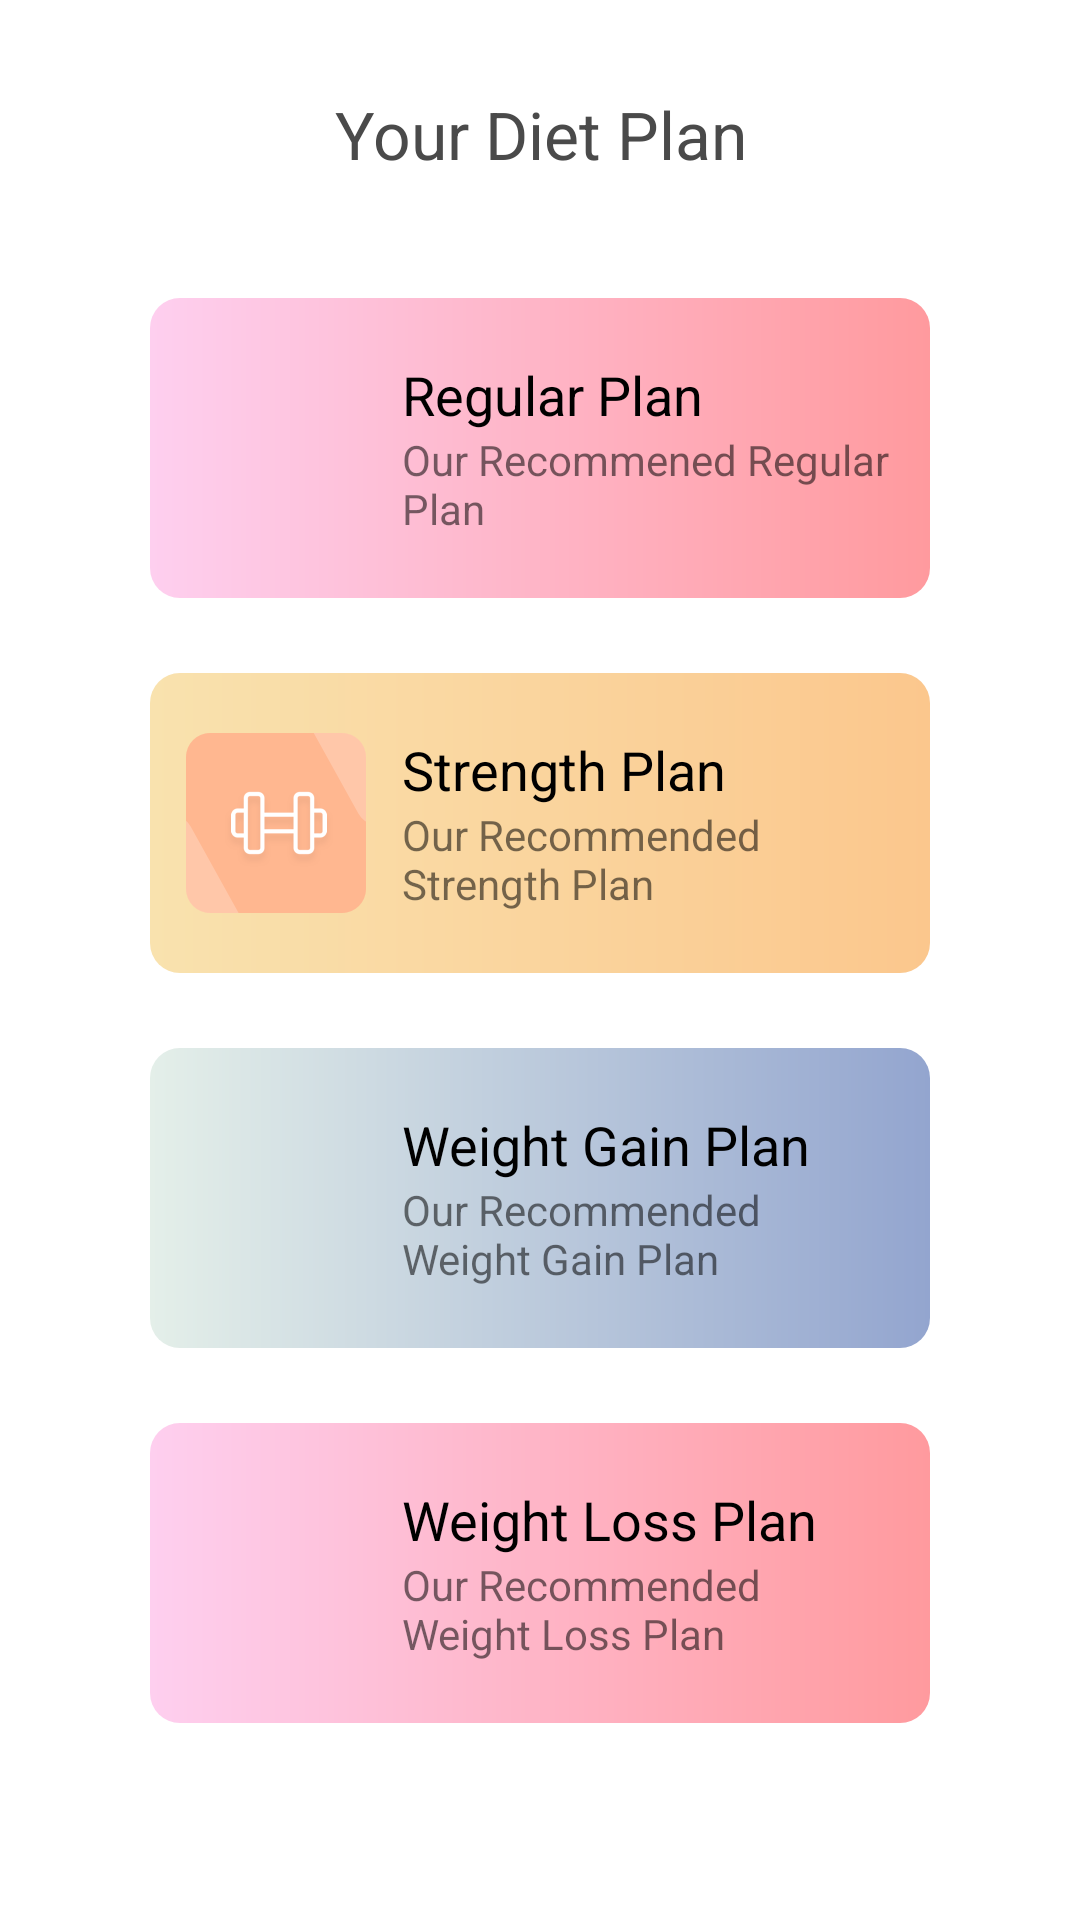

Icon bounding boxes for this 1080w x 1920h phone screenshot, format (x1, y1, x2, y2):
muscle: (186, 733, 366, 913)
